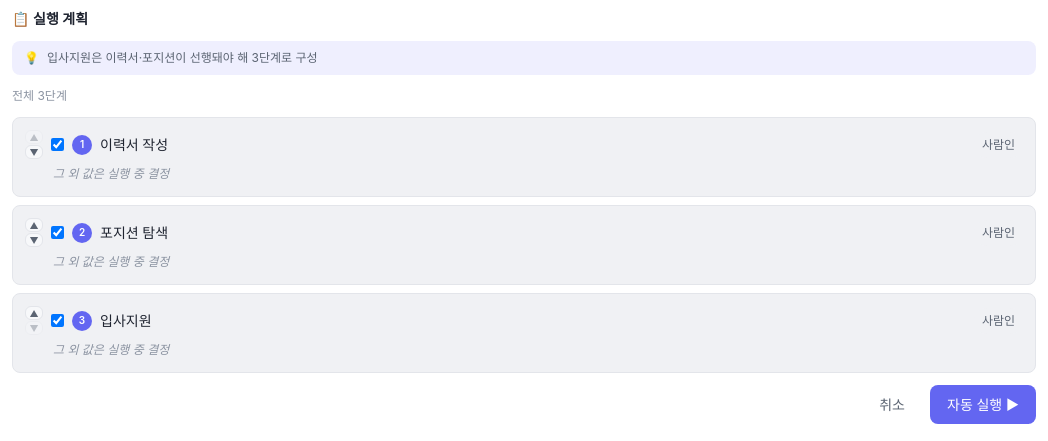
Test case: PlanCard 편집 (스킵 + 순서변경) › 스킵 토글: 체크 해제 시 '(제외됨)' + 카운터/순서 재매김
# "포지션 탐색" 체크박스 해제
Click the checkbox named "포지션 탐색 실행 포함".
click(58, 232)  # box x1=51 y1=226 x2=64 y2=239
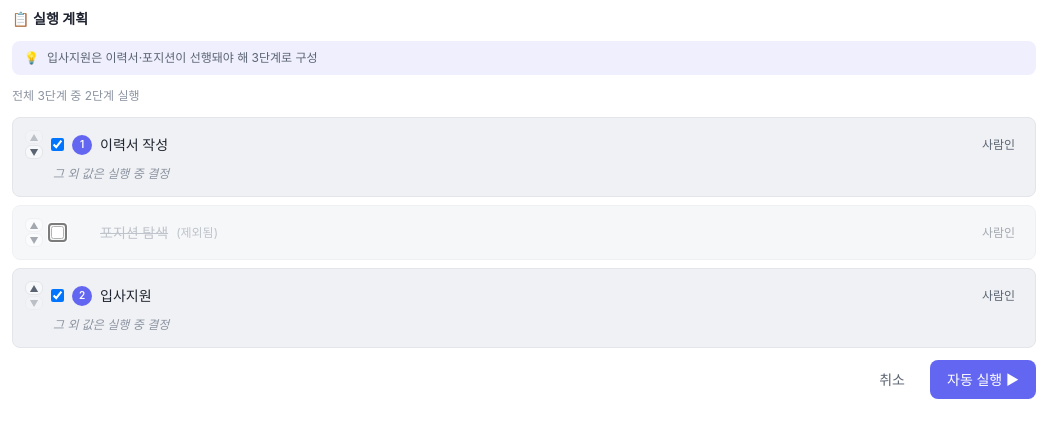
Expected: the text "(제외됨)" is shown, x1=176 y1=224 x2=218 y2=242
Expected: the text "전체 3단계 중 2단계 실행" is shown, x1=12 y1=88 x2=140 y2=103
